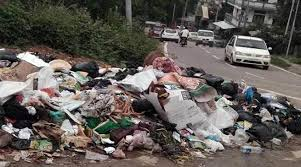garbage: (1, 53, 175, 167), (114, 73, 228, 159), (153, 89, 301, 150)
